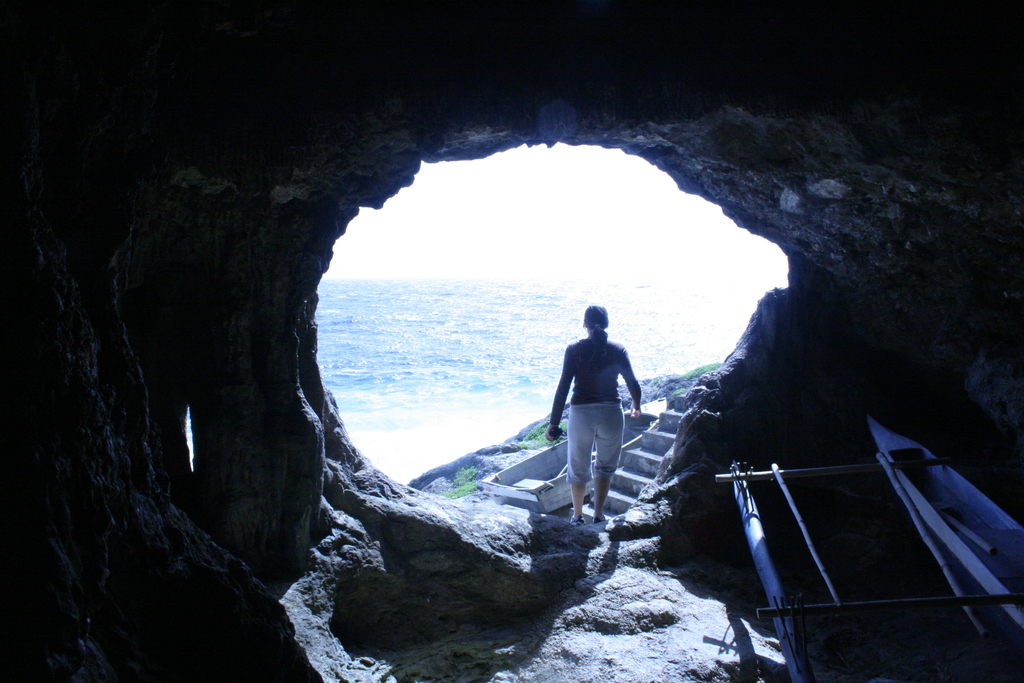Person: (544, 304, 641, 525)
